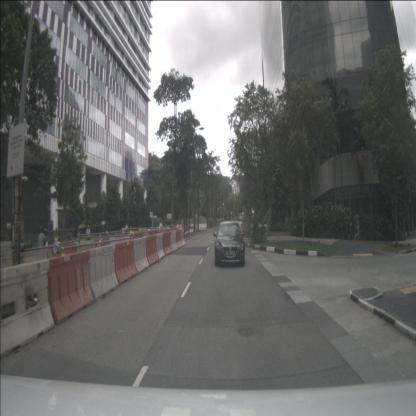barrier: (0, 258, 55, 361), (47, 250, 95, 326), (86, 244, 120, 302), (114, 240, 138, 286), (132, 236, 150, 275), (145, 234, 160, 267), (155, 232, 166, 261), (162, 231, 173, 256), (170, 229, 178, 253), (176, 228, 184, 249), (180, 228, 186, 247)
